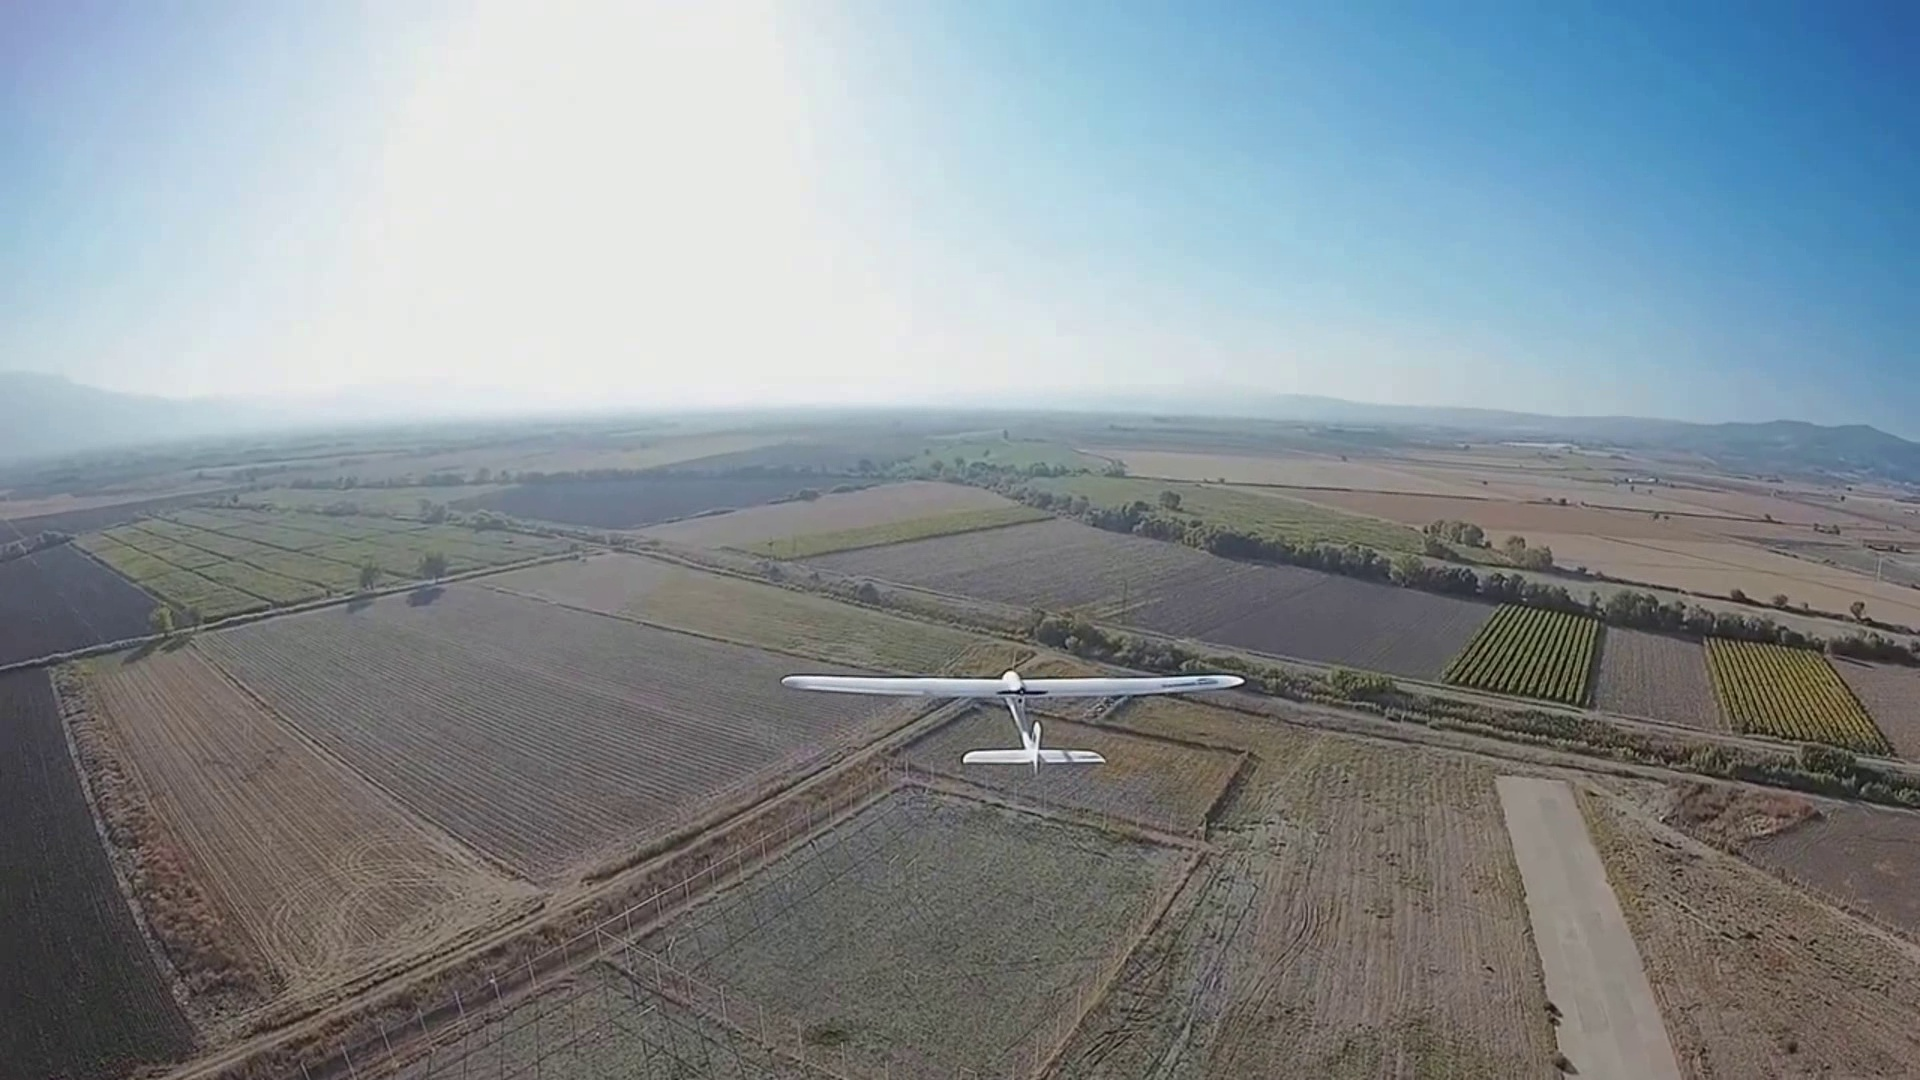airplane: (779, 661, 1251, 767)
